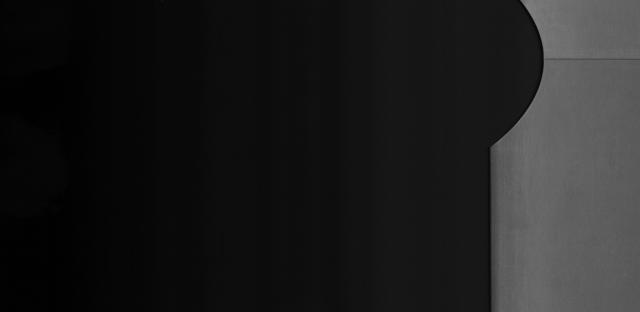crescent_gap: (458, 0, 554, 166)
welding_line: (532, 46, 639, 67)
